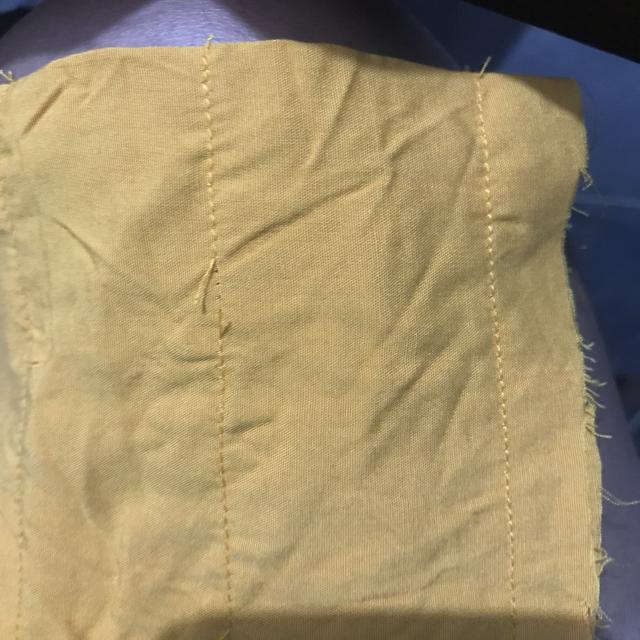broken: (192, 225, 248, 364)
good: (198, 107, 228, 199)
